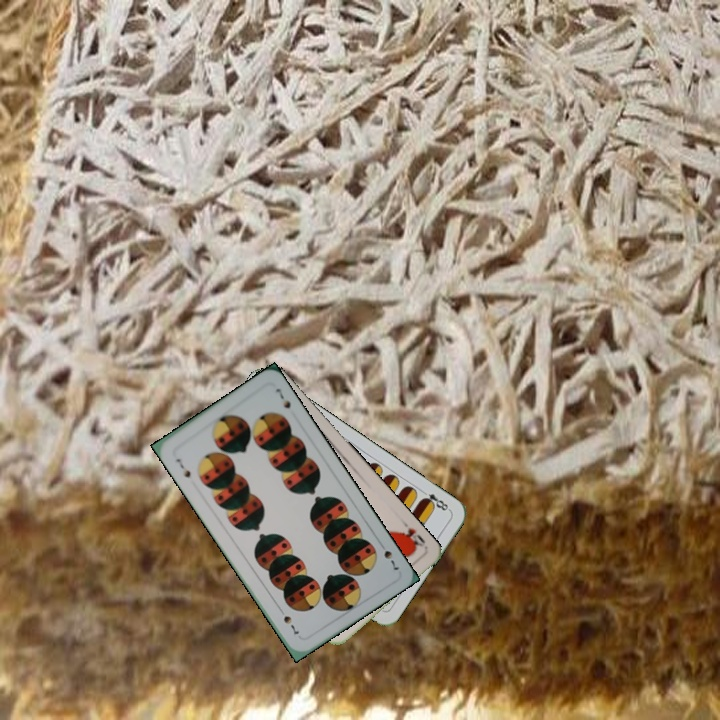E8: (417, 486, 453, 514)
HO: (396, 517, 429, 552)
S7: (375, 537, 402, 573), (172, 454, 193, 480)
